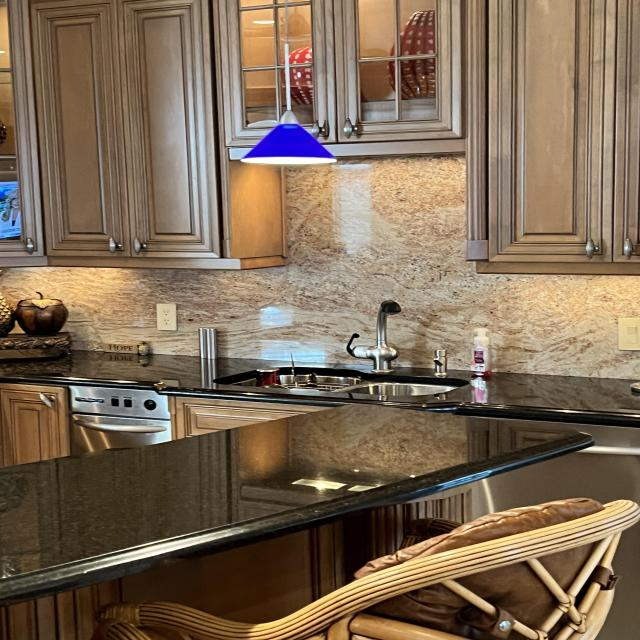Appliance_Dishwasher: (68, 385, 172, 456)
Appliance_Sink: (213, 301, 469, 401)
Cabinet_Glass: (213, 0, 466, 161), (0, 0, 49, 269)
Cabinet_Raised_Panel: (31, 0, 229, 267), (465, 0, 640, 279), (0, 384, 72, 469), (171, 397, 309, 440)
Countertop_Granite: (0, 403, 596, 601), (0, 351, 473, 409), (487, 373, 640, 411)
